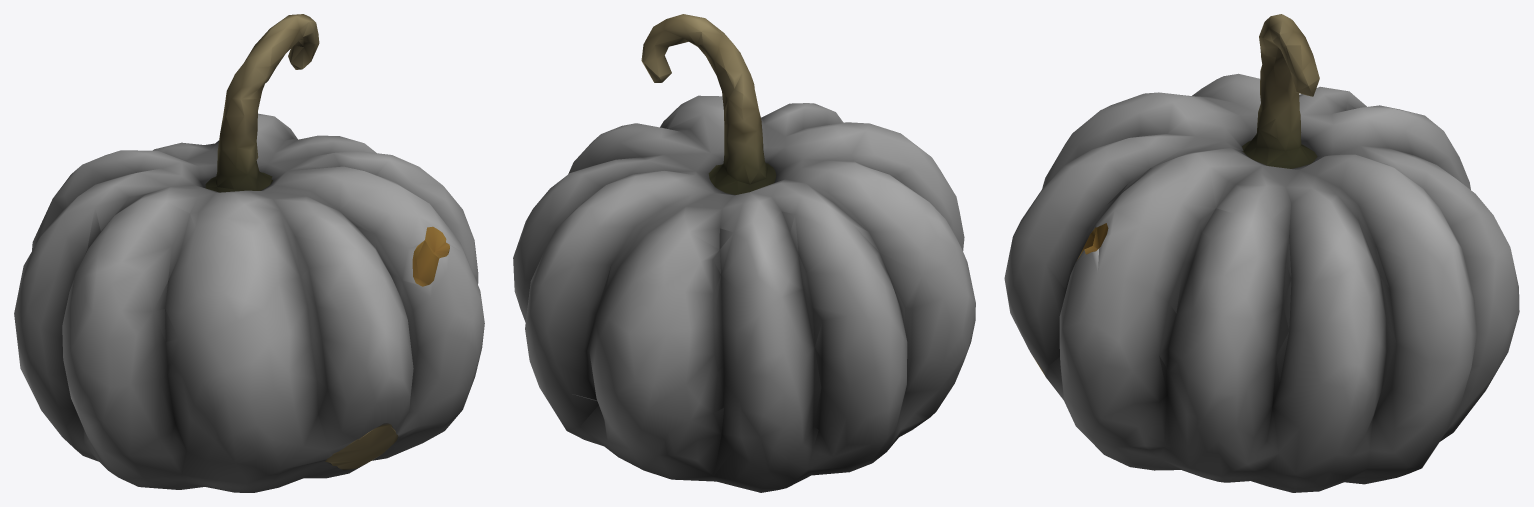
File: pumpkin_a.glb
3 views of the same model, side by side, from view 1: azimuth 30°, elevation 25°; view 2: azimuth 150°, elevation 25°; view 3: azimuth 270°, elevation 25° (orthographic). The views are drawn at different scales.
Parts seen in each view (by area): view 1: pumpkin_a_LOD0; view 2: pumpkin_a_LOD0; view 3: pumpkin_a_LOD0.
Boxes of the visible parts, <box> form: pumpkin_a_LOD0: <box>14,14,484,492</box>; pumpkin_a_LOD0: <box>513,14,975,492</box>; pumpkin_a_LOD0: <box>1004,14,1519,492</box>.
Size of what is drawn, in the model's own units: 0.7679 by 0.7627 by 0.7782.
